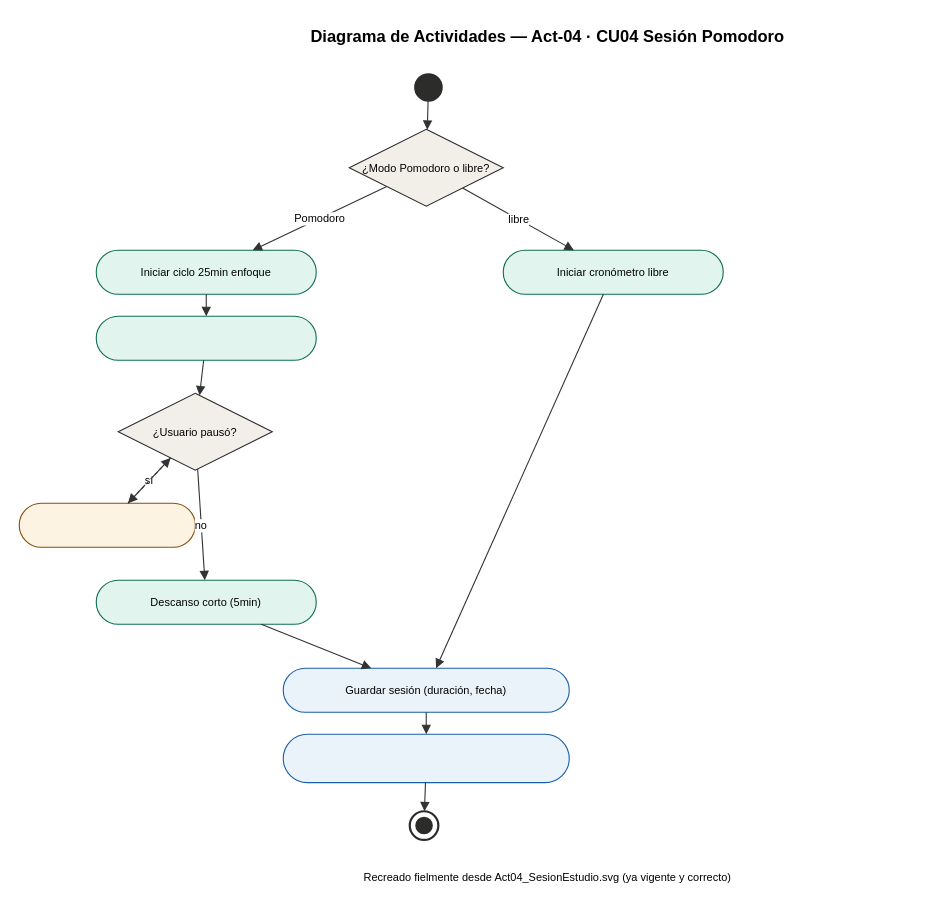
This 952x906 diagram has some shape labels left out. The shapes that lost their labels are listed below. From the top down, each one's centre as x and y in pixels, then its label:
At point 205,337: "Bloquear notificaciones (modo_enfoque)".
At point 106,524: "Pausar / reanudar".
At point 425,758: "Tablero de Avance refleja horas (tiempo real) RF11".
